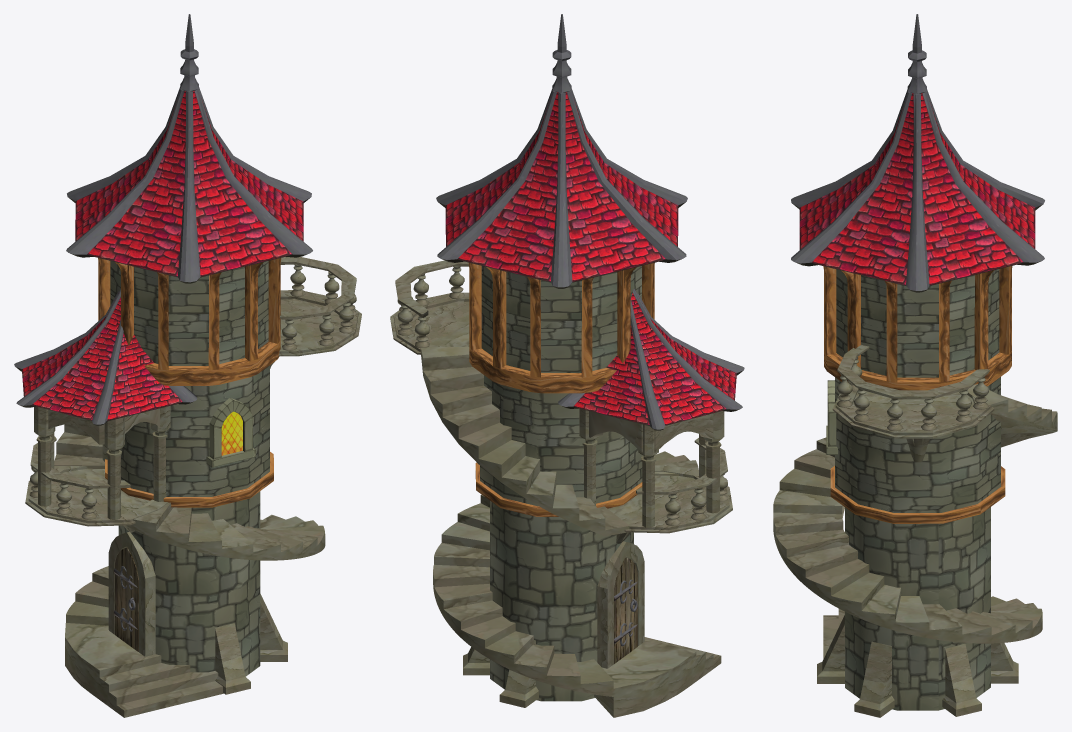
The model's file is wizard_tower.fbx.
3 views of the same model, side by side, from view 1: azimuth 30°, elevation 25°; view 2: azimuth 150°, elevation 25°; view 3: azimuth 270°, elevation 25° (orthographic). The views are drawn at different scales.
Parts seen in each view (by area): view 1: Tower01; view 2: Tower01; view 3: Tower01.
Boxes of the visible parts, bbox=[...] form: Tower01: bbox=[14, 14, 361, 717]; Tower01: bbox=[390, 14, 744, 717]; Tower01: bbox=[773, 14, 1057, 717].
Bounding box in the file's own units: 578 × 1060 × 411.
